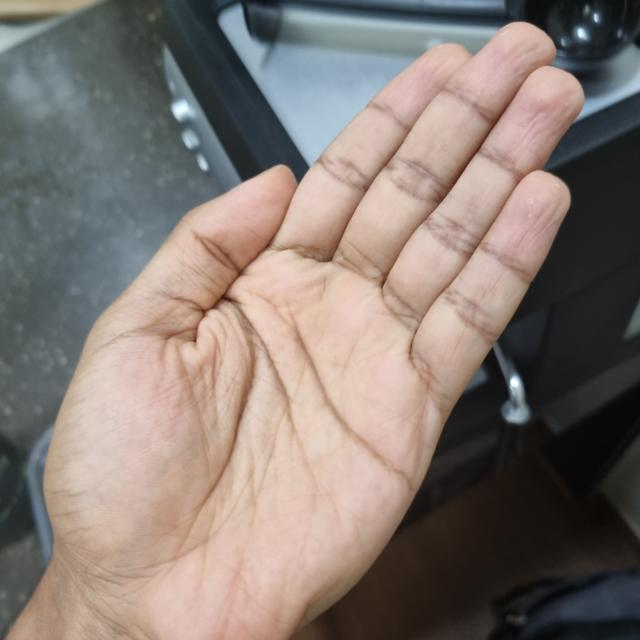Paper: (42, 20, 584, 639)
